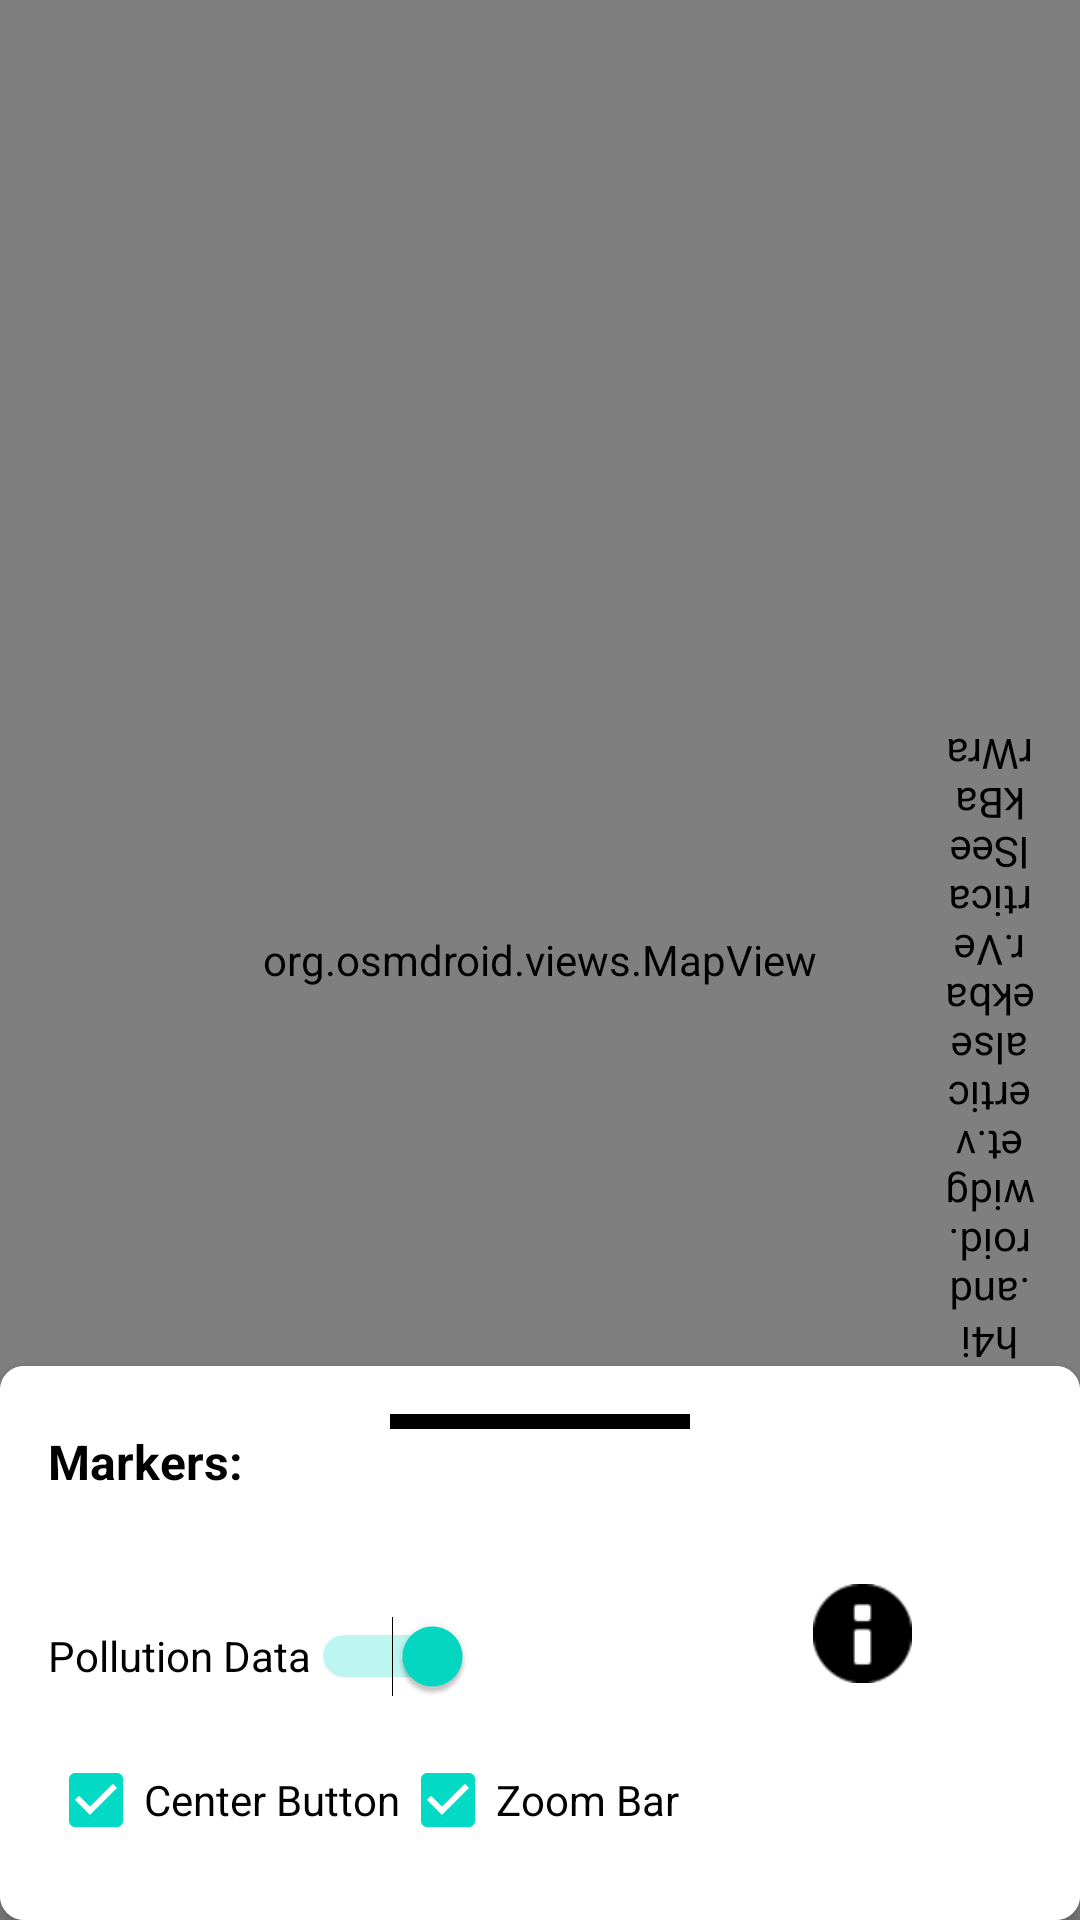

Icon bounding boxes for this 1080*1920 phone screenshot, format (x1, y1, x2, y2):
info: (813, 1584, 912, 1683)
